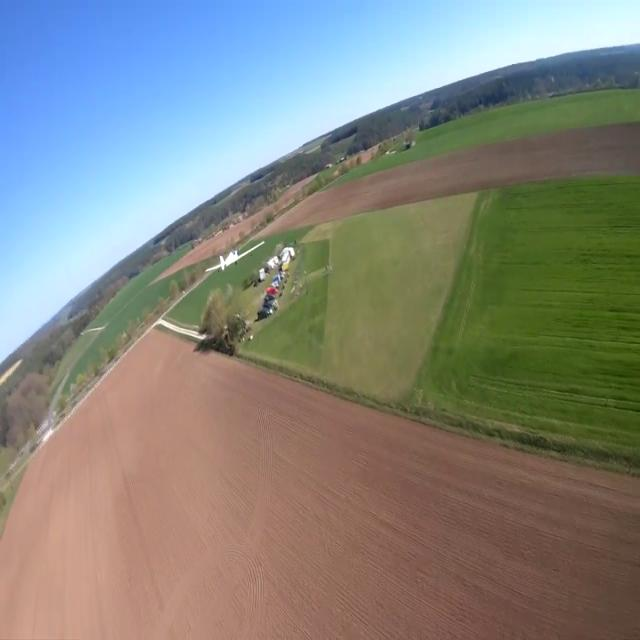iha: (206, 240, 266, 279)
